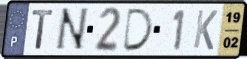1: (172, 8, 187, 52)
2: (94, 6, 123, 54)
D: (121, 7, 155, 53)
K: (192, 8, 220, 52)
N: (52, 7, 90, 53)
T: (30, 9, 56, 51)
